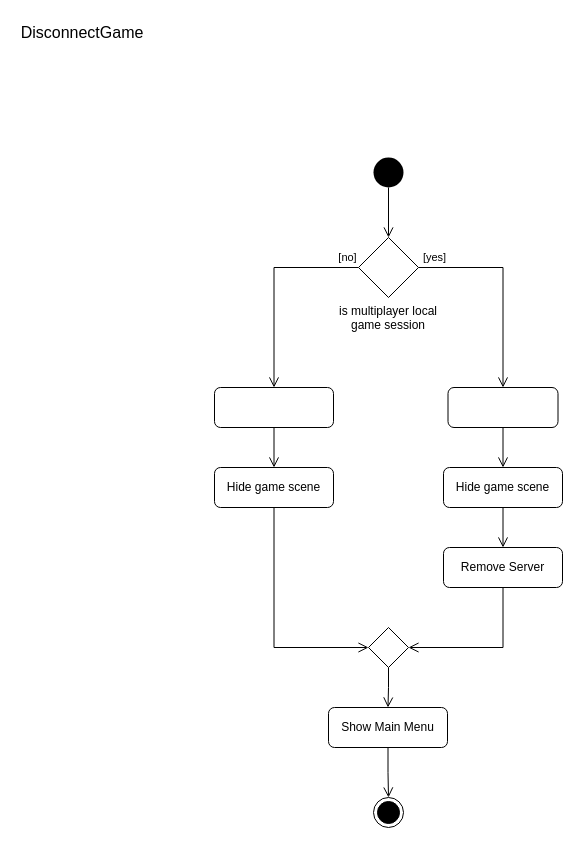
The diagram is 580 pixels wide and 845 high, and some of its shapes have lost their labels. The centre of each missing label's shape, as x and y in pixels:
Hide Away Local Multiplayer Menu: point (502, 407)
Hide Away Menu: point (274, 407)
